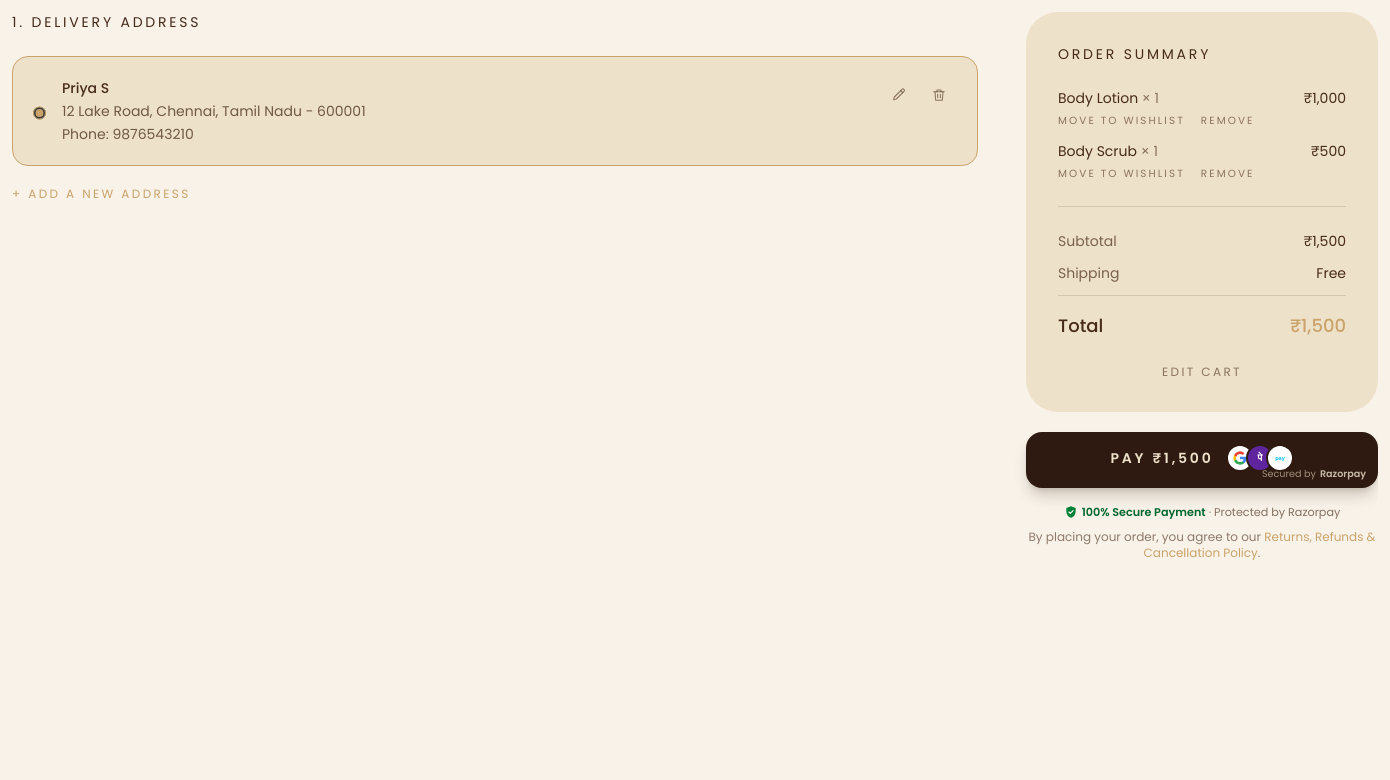
Test case: CheckoutFlow › Remove in the summary takes the item out of the cart
Click the button "Remove" below "Body Scrub" at point(1228, 174), box x1=1201 y1=167 x2=1254 y2=182
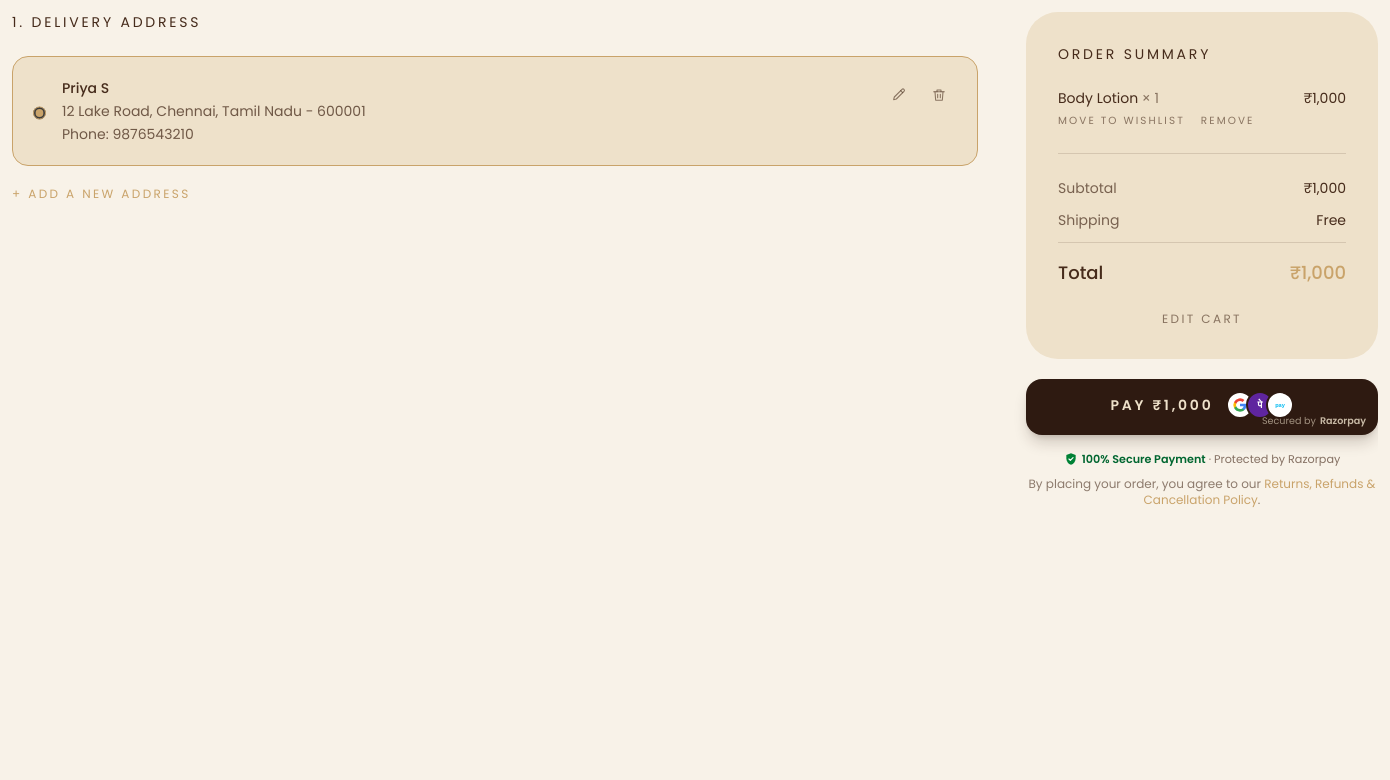
Expected: the button "Pay ₹1,000 पे pay Secured by Razorpay" is shown, x1=1026 y1=379 x2=1378 y2=435
